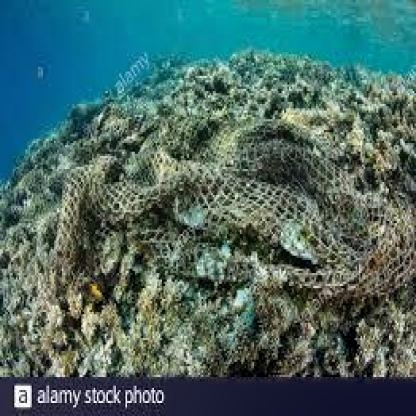net: (57, 128, 413, 312)
